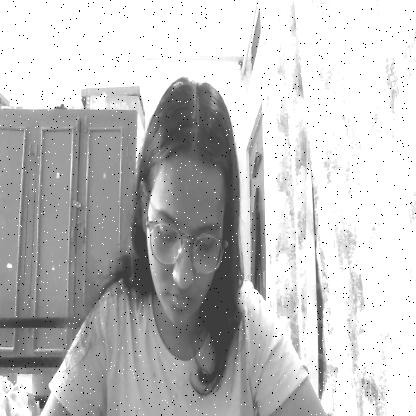Normal: (141, 69, 242, 330)
